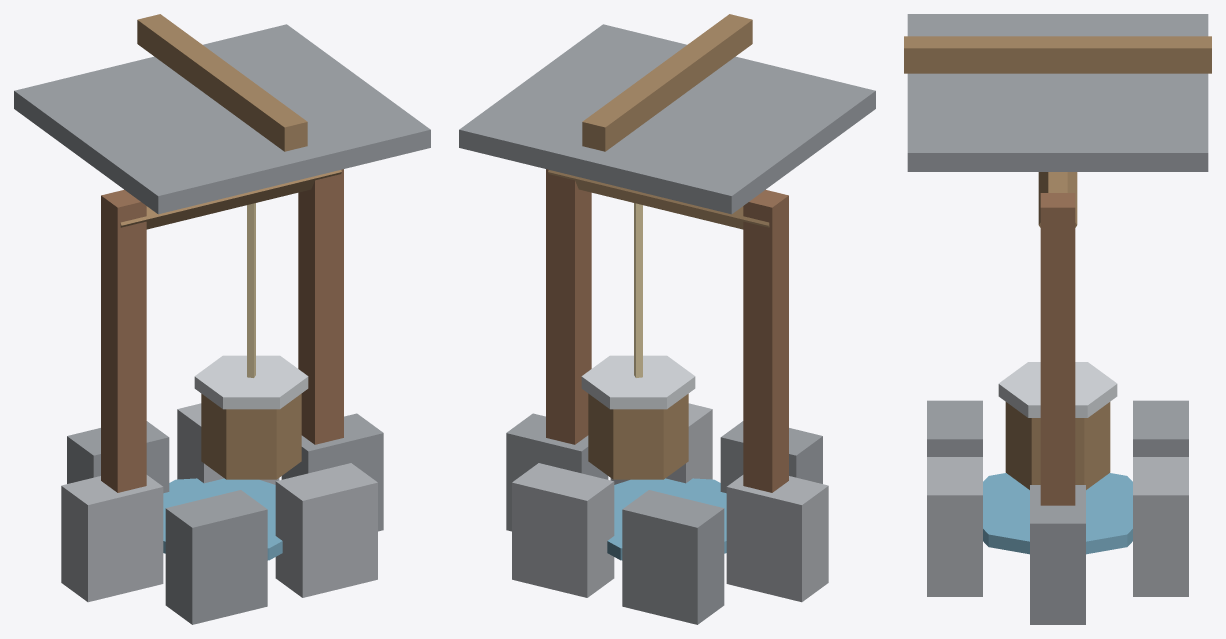
The model's file is well_bucket.glb.
3 views of the same model, side by side, from view 1: azimuth 30°, elevation 25°; view 2: azimuth 150°, elevation 25°; view 3: azimuth 270°, elevation 25° (orthographic). The views are drawn at different scales.
Visible parts, largest first — view 1: roof_-1, roof_1, winch_post_0, stone_4, stone_5, winch_post_1, stone_3, ridge, bucket, bucket_rim, stone_0, stone_2 (+4 smaller); view 2: roof_-1, roof_1, winch_post_0, stone_2, stone_1, winch_post_1, stone_3, ridge, bucket, bucket_rim, stone_0, stone_4 (+4 smaller); view 3: roof_1, ridge, winch_post_1, roof_-1, stone_1, stone_5, stone_0, water, bucket, bucket_rim, stone_2, stone_4 (+1 smaller).
Boxes of the visible parts, x1=… form: roof_-1: x1=14, y1=56, x2=303, y2=214; roof_1: x1=142, y1=24, x2=430, y2=182; winch_post_0: x1=101, y1=189, x2=146, y2=492; stone_4: x1=165, y1=490, x2=267, y2=624; stone_5: x1=275, y1=463, x2=377, y2=597; winch_post_1: x1=298, y1=169, x2=343, y2=444; stone_3: x1=61, y1=475, x2=163, y2=602; ridge: x1=137, y1=14, x2=307, y2=151; bucket: x1=201, y1=393, x2=301, y2=479; bucket_rim: x1=194, y1=355, x2=308, y2=409; stone_0: x1=281, y1=413, x2=383, y2=531; stone_2: x1=67, y1=421, x2=169, y2=493; roof_-1: x1=586, y1=57, x2=875, y2=214; roof_1: x1=459, y1=24, x2=747, y2=182; winch_post_0: x1=743, y1=189, x2=788, y2=492; stone_2: x1=622, y1=490, x2=724, y2=624; stone_1: x1=512, y1=463, x2=614, y2=597; winch_post_1: x1=546, y1=169, x2=591, y2=444; stone_3: x1=726, y1=475, x2=828, y2=602; ridge: x1=582, y1=14, x2=752, y2=151; bucket: x1=588, y1=393, x2=688, y2=479; bucket_rim: x1=581, y1=355, x2=695, y2=409; stone_0: x1=506, y1=413, x2=608, y2=531; stone_4: x1=720, y1=421, x2=822, y2=493; roof_1: x1=907, y1=79, x2=1208, y2=171; ridge: x1=904, y1=36, x2=1211, y2=73; winch_post_1: x1=1040, y1=193, x2=1075, y2=505; roof_-1: x1=907, y1=14, x2=1208, y2=87; stone_1: x1=1133, y1=457, x2=1188, y2=596; stone_5: x1=927, y1=457, x2=982, y2=596; stone_0: x1=1030, y1=485, x2=1085, y2=624; water: x1=983, y1=473, x2=1132, y2=554; bucket: x1=1005, y1=402, x2=1110, y2=489; bucket_rim: x1=998, y1=362, x2=1117, y2=417; stone_2: x1=1133, y1=400, x2=1188, y2=456; stone_4: x1=927, y1=400, x2=982, y2=456.
Size of the model in its own units: 1.02 by 1.6 by 0.88.
